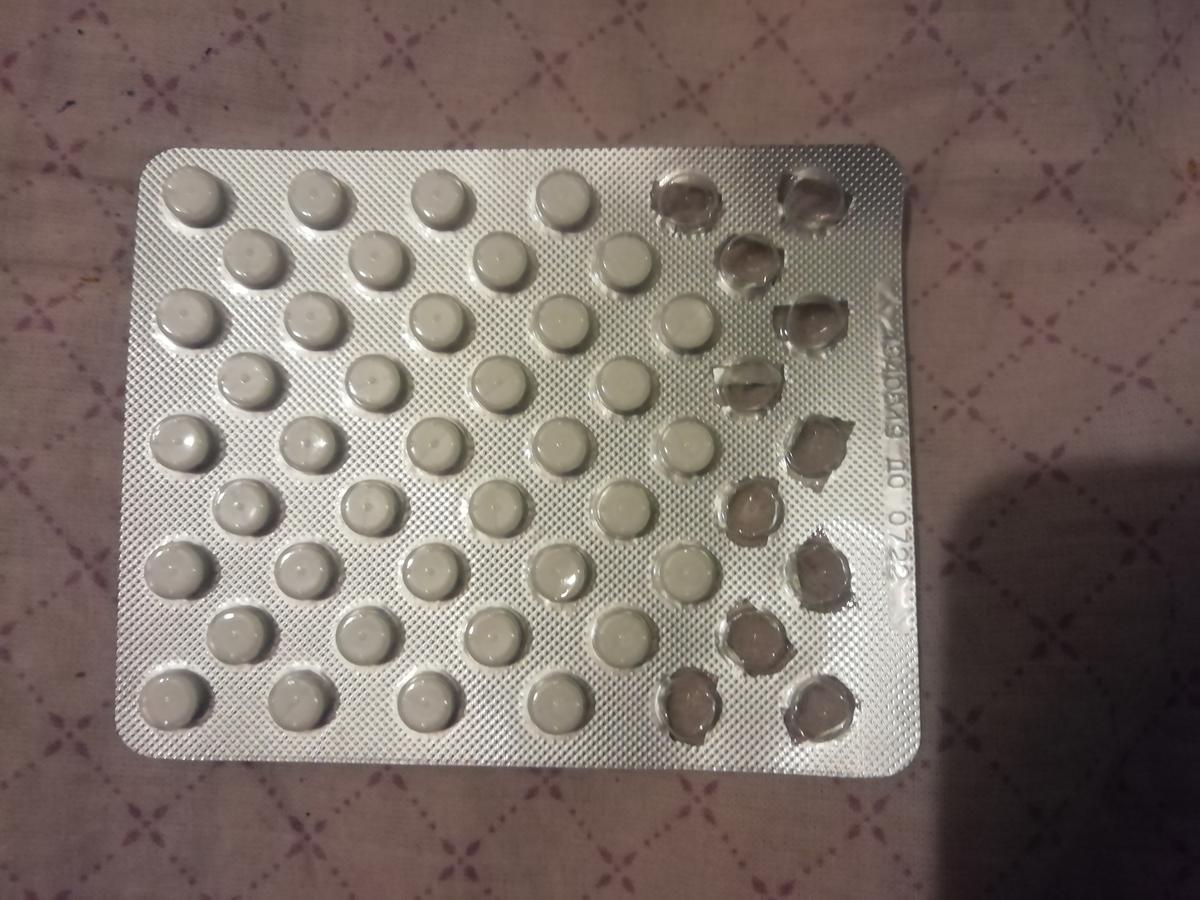tablet: (138, 670, 215, 733), (263, 671, 340, 734), (384, 673, 461, 736), (524, 671, 601, 734), (156, 165, 231, 229), (279, 170, 354, 234), (401, 167, 476, 231), (525, 164, 600, 228), (217, 228, 292, 292), (338, 227, 413, 291), (464, 229, 539, 293), (586, 229, 661, 293), (152, 282, 227, 346), (275, 285, 350, 349), (404, 290, 479, 354), (523, 291, 598, 355), (653, 294, 728, 358), (591, 350, 666, 414), (463, 352, 538, 416), (340, 350, 415, 414), (213, 349, 288, 413), (146, 409, 221, 473), (278, 413, 353, 477), (588, 474, 663, 538), (396, 408, 471, 472), (519, 409, 594, 473), (649, 414, 724, 478), (264, 539, 339, 603), (461, 473, 536, 537), (336, 470, 411, 534), (199, 472, 274, 536), (139, 532, 214, 596), (520, 543, 596, 603), (650, 545, 726, 605), (584, 607, 660, 667), (460, 606, 536, 666), (328, 605, 404, 665), (204, 605, 280, 665), (394, 542, 468, 601)
